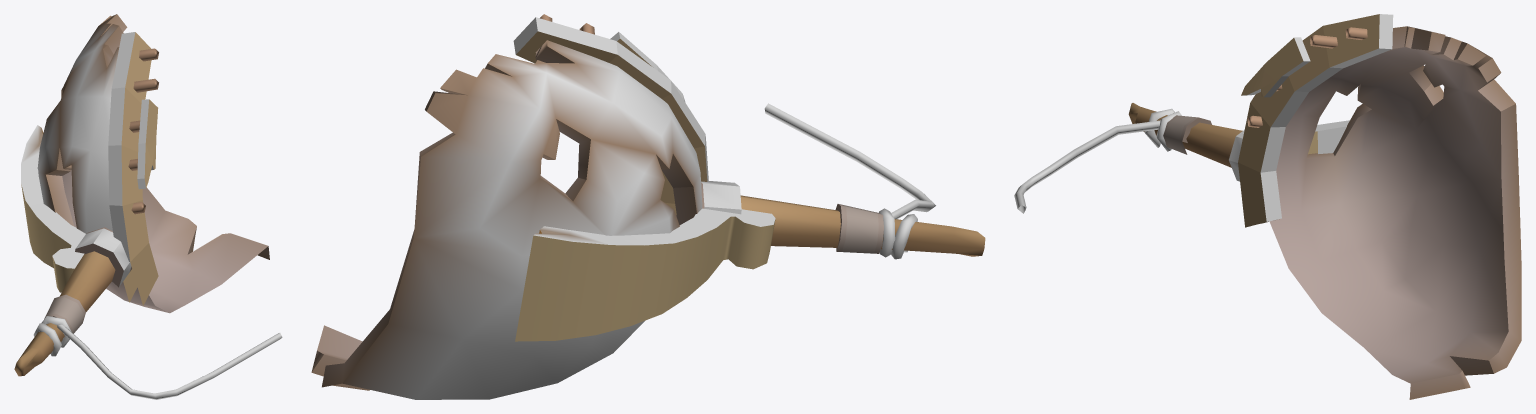
File: shipWreck.fbx
The picture shows the model from 3 angles, left to right: view 1: azimuth 30°, elevation 25°; view 2: azimuth 150°, elevation 25°; view 3: azimuth 270°, elevation 25°; orthographic projection. The views are drawn at different scales.
Parts seen in each view (by area): view 1: shipWreck; view 2: shipWreck; view 3: shipWreck.
Boxes of the visible parts, box(x1,y1,x2,y2) form: shipWreck: box(14, 14, 282, 399); shipWreck: box(311, 14, 985, 399); shipWreck: box(1014, 14, 1521, 399).
Size of the model in its own units: 641 by 453 by 667.
